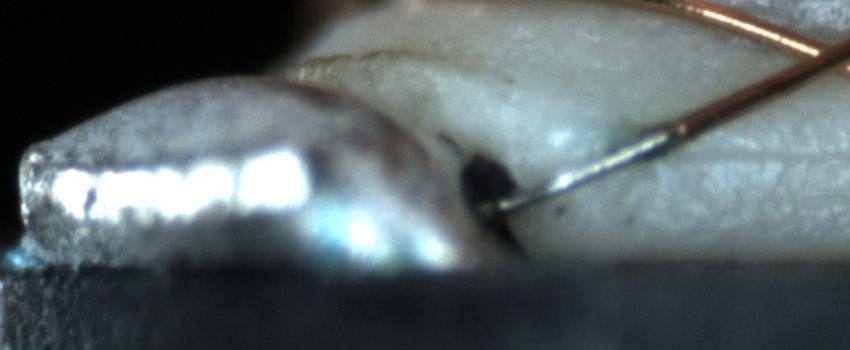CL: (770, 23, 849, 88)
DL: (645, 122, 849, 186)
TS: (475, 124, 679, 216)
TTCW: (476, 98, 689, 221)
